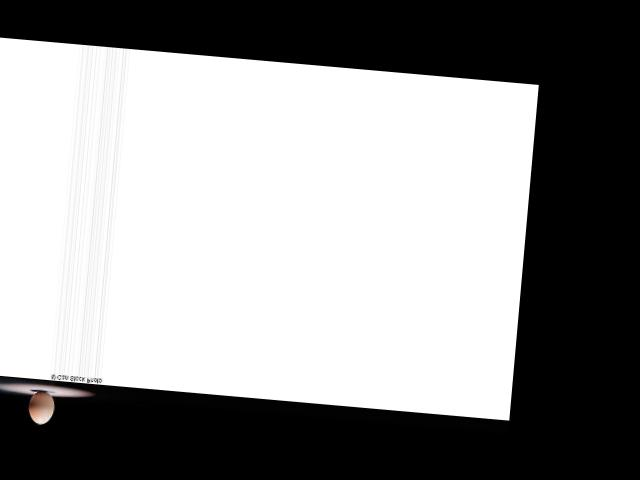egg: (27, 389, 56, 424)
